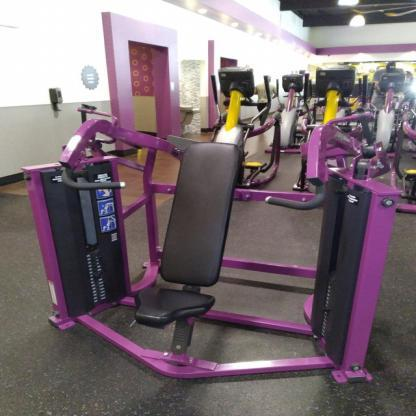shoulder press machine: (17, 97, 416, 407)
